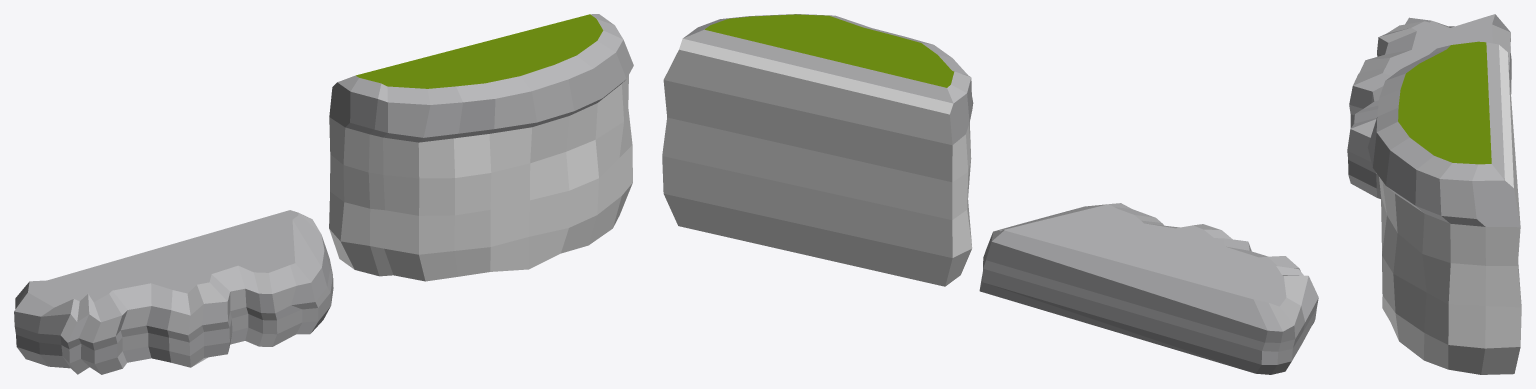
File: CliffRoundSmoothShaded.fbx
3 views of the same model, side by side, from view 1: azimuth 30°, elevation 25°; view 2: azimuth 150°, elevation 25°; view 3: azimuth 270°, elevation 25° (orthographic). The views are drawn at different scales.
Parts seen in each view (by area): view 1: Plane.022, Plane.019, Plane.020, Plane.021; view 2: Plane.022, Plane.019, Plane.021, Plane.020; view 3: Plane.022, Plane.020, Plane.021, Plane.019.
Boxes of the visible parts, bbox=[...] form: Plane.022: bbox=[329, 75, 632, 281]; Plane.019: bbox=[14, 210, 333, 374]; Plane.020: bbox=[329, 14, 633, 142]; Plane.021: bbox=[356, 14, 603, 88]; Plane.022: bbox=[662, 39, 972, 286]; Plane.019: bbox=[979, 203, 1318, 374]; Plane.021: bbox=[705, 14, 954, 87]; Plane.020: bbox=[683, 14, 973, 144]; Plane.022: bbox=[1379, 45, 1521, 374]; Plane.020: bbox=[1367, 42, 1520, 227]; Plane.021: bbox=[1398, 41, 1491, 164]; Plane.019: bbox=[1347, 14, 1511, 198].
Size of the model in its own units: 6758 by 2182 by 1574.
